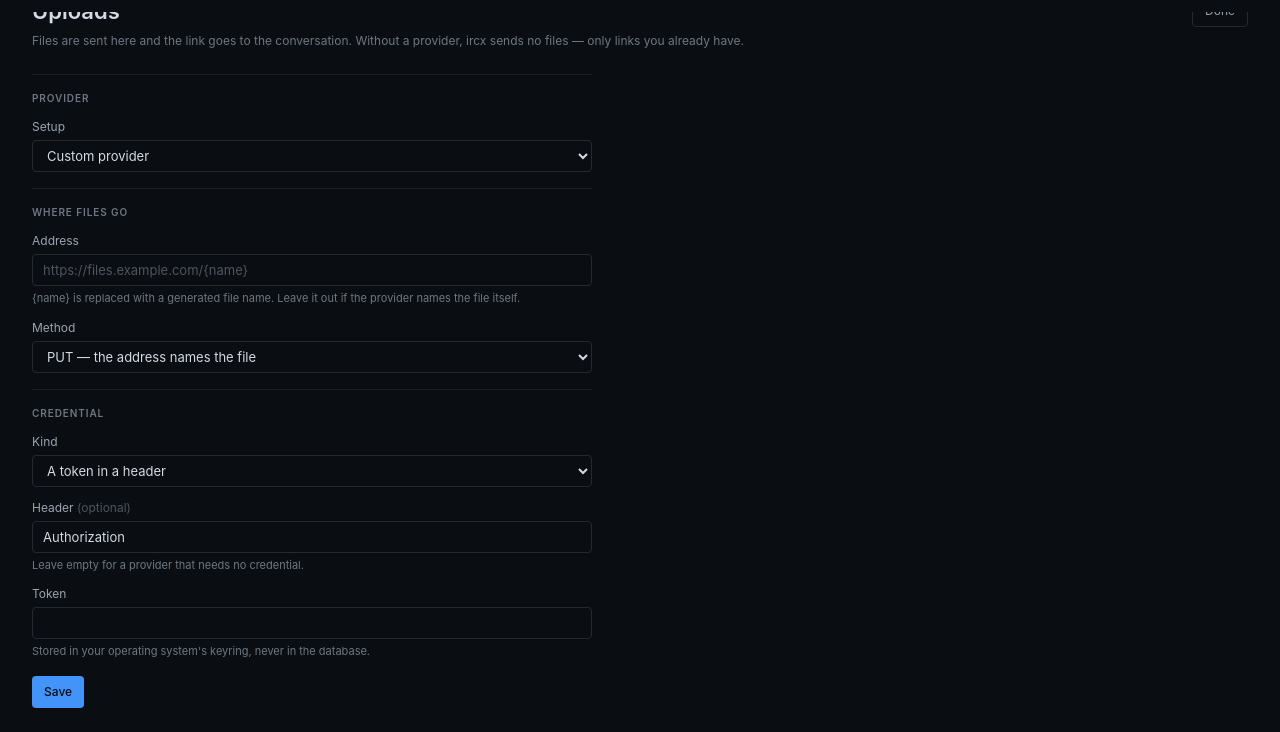
Test: the uploads page › refuses an empty address and says what to do instead
The width and height of the screenshot is (1280, 732).
(page scrolled)
Step 1. Click the button "Save" → (58, 692), box [32, 676, 84, 708]
(page scrolled)
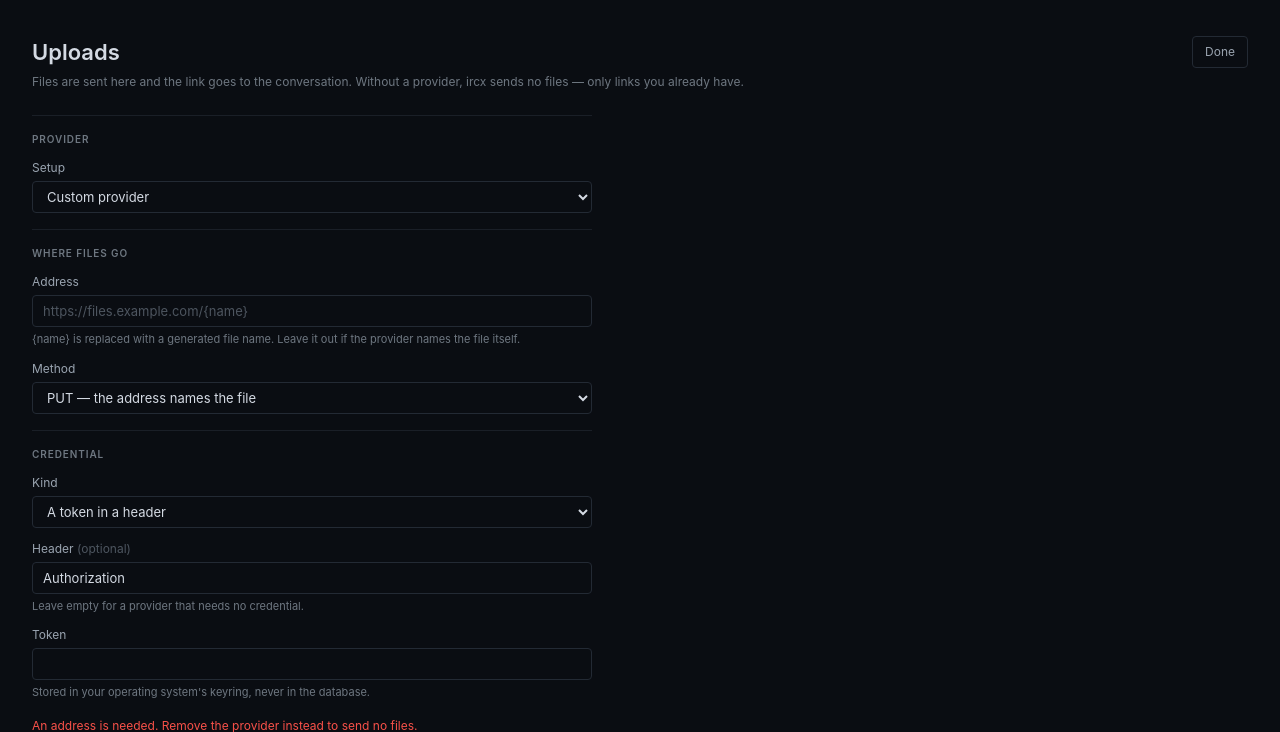
Expected: the button "Done" is enabled, [1192, 36, 1248, 68]
Now the message shows "Remove the provider instead", box [32, 718, 418, 731]
